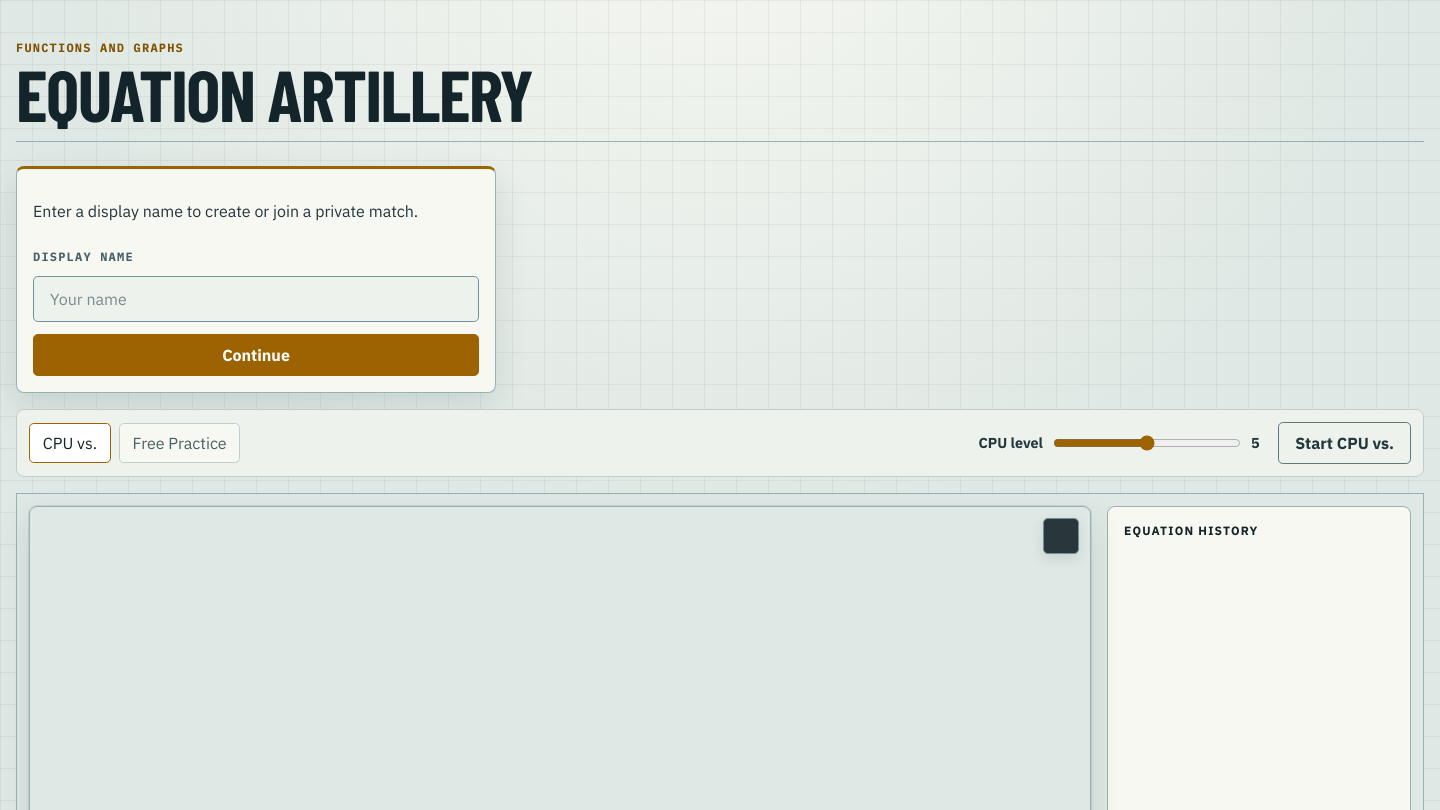
Test: EquationArtilleryPageComponent › shows CPU setup by default without starting a match
This screenshot has width=1440, height=810.
Check: the element with class "difficulty-control" is shown, box [978, 422, 1411, 464]
Step 1. Click the button "Start CPU vs." → (1345,443), box [1278, 422, 1411, 464]
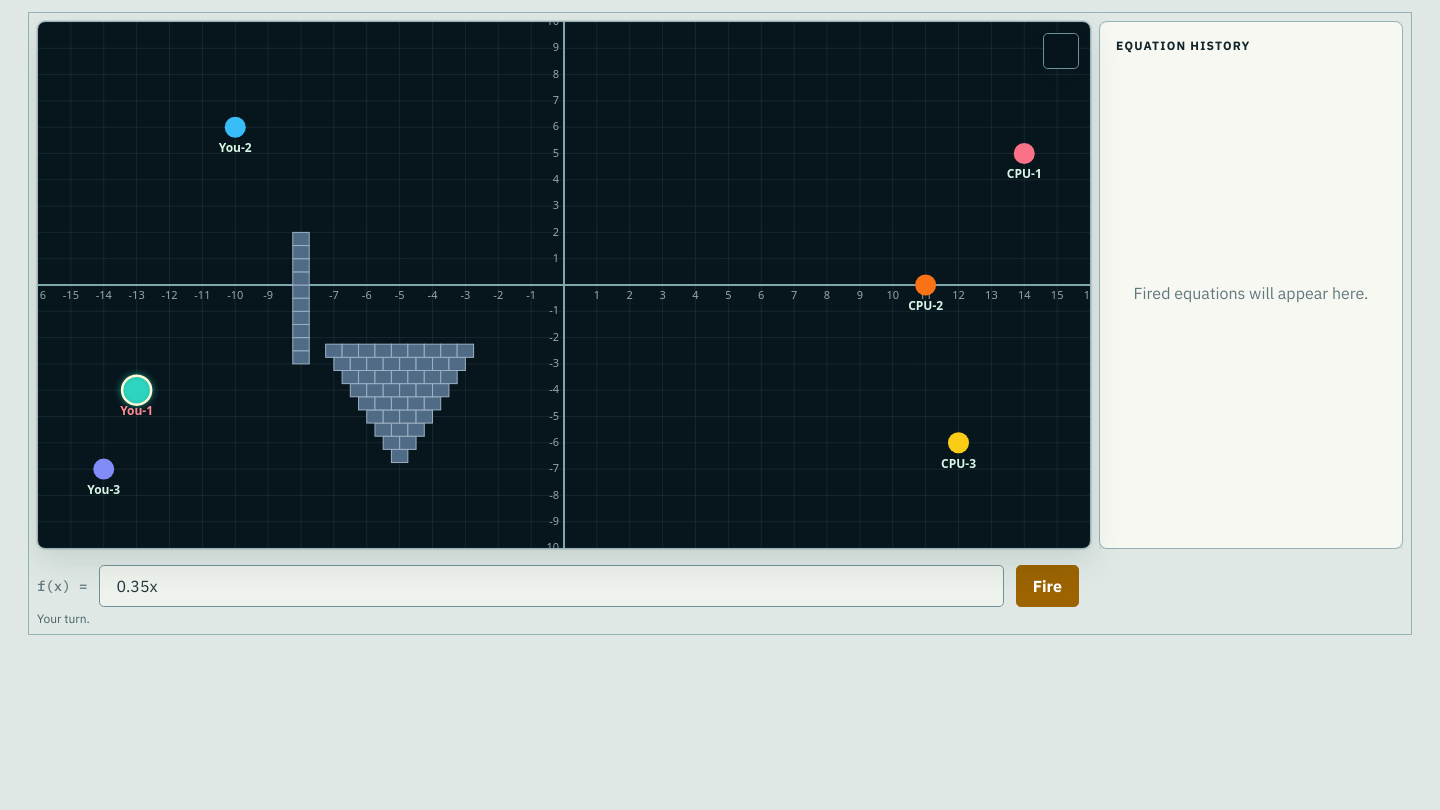
Check: the text "Your turn." is shown, box [37, 611, 90, 626]
